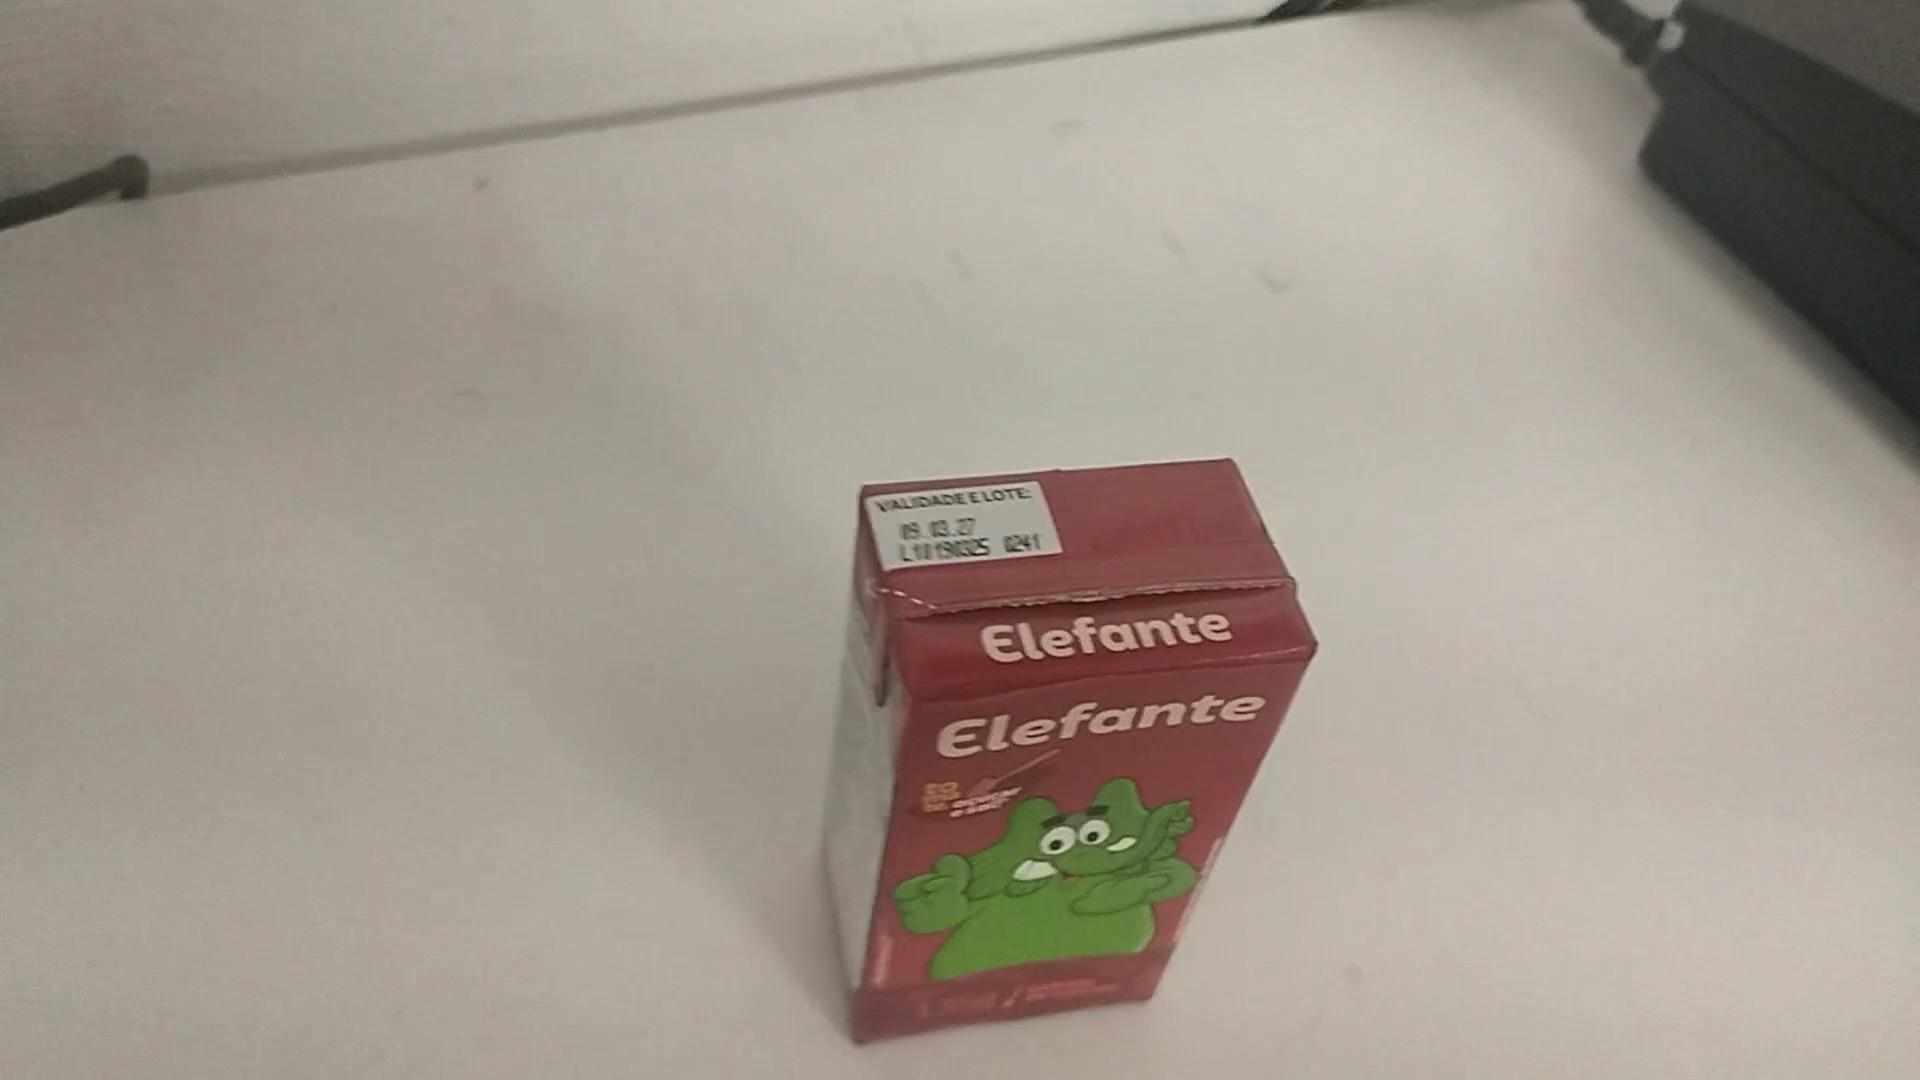tomate: (825, 454, 1320, 1043)
